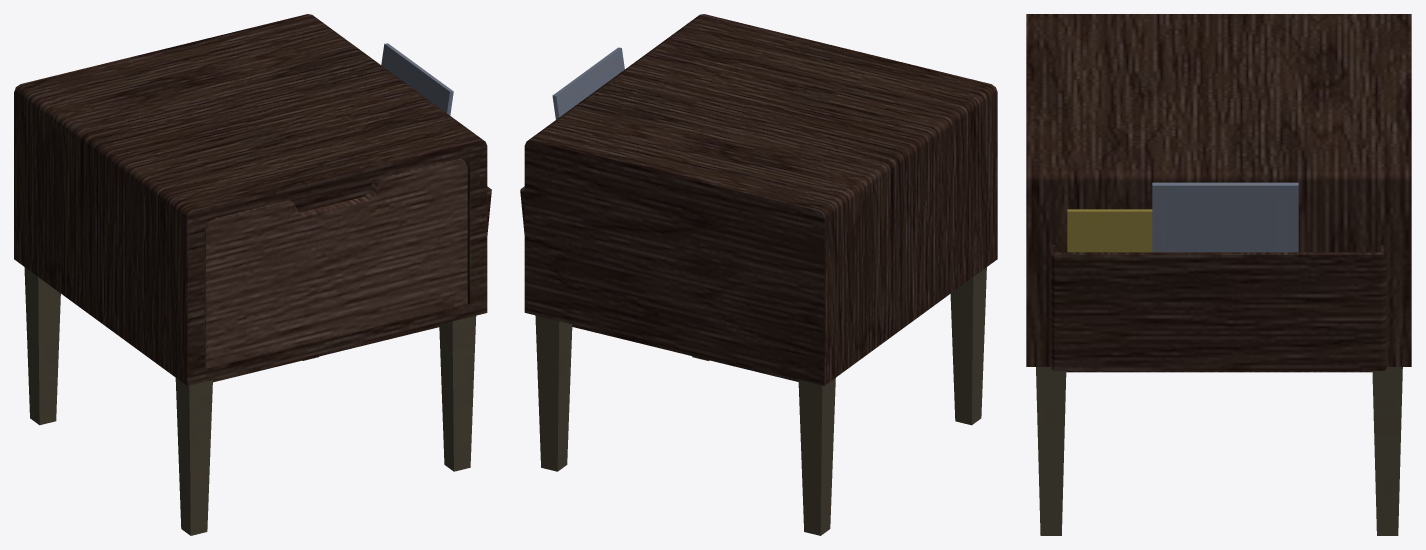
Rendered from Endtable.glb.
3 views of the same model, side by side, from view 1: azimuth 30°, elevation 25°; view 2: azimuth 150°, elevation 25°; view 3: azimuth 270°, elevation 25° (orthographic). The views are drawn at different scales.
Visible parts, largest first — view 1: endtable1; view 2: endtable1; view 3: endtable1.
Boxes of the visible parts, bbox=[...] form: endtable1: bbox=[14, 14, 491, 535]; endtable1: bbox=[520, 14, 997, 535]; endtable1: bbox=[1026, 14, 1411, 535].
Bounding box in the file's own units: 0.8023 × 0.7875 × 0.7451.
Materials: 1 (1 with a texture image).
